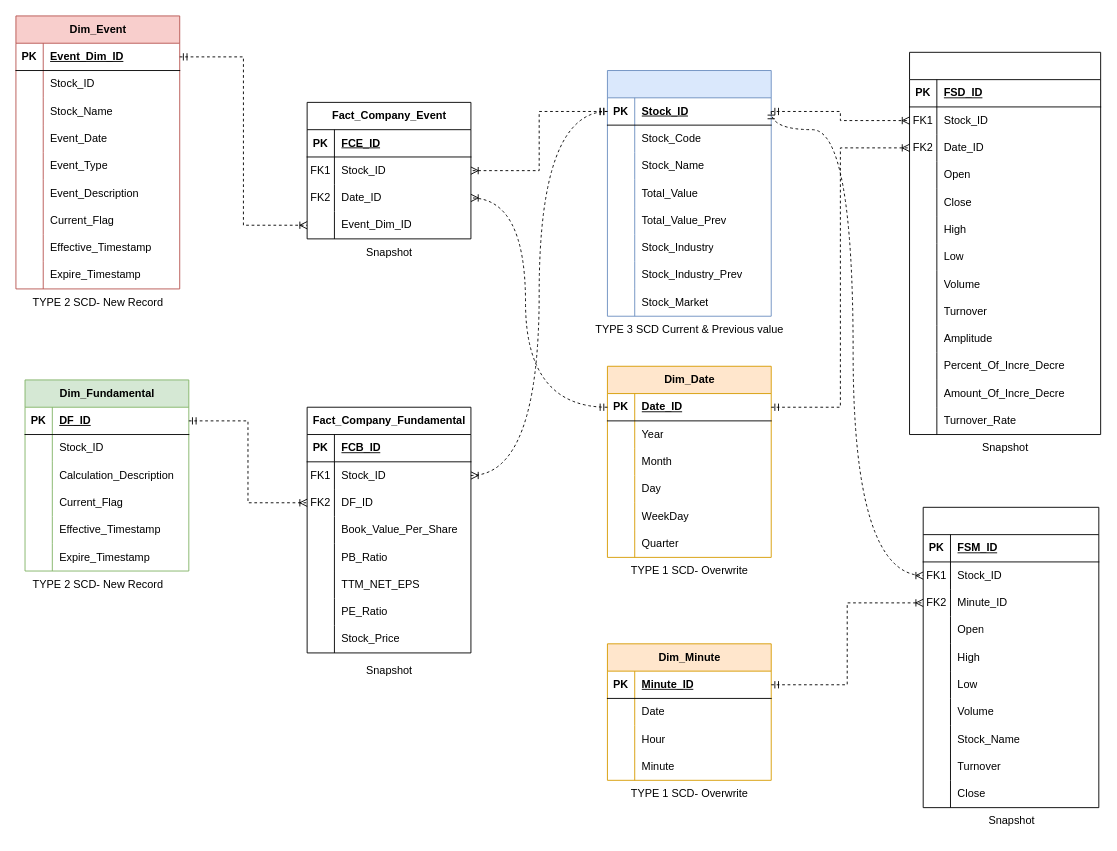
Image size: 1117x851. Some labels were removed from this diagram. Here are the shapes that lost their labels. From the top down, the box of each, then its label:
(607, 70, 771, 316): Dim_Stock
(909, 51, 1101, 435): Fact_Stock_Daily
(922, 506, 1099, 808): Fact_Stock_Minute
